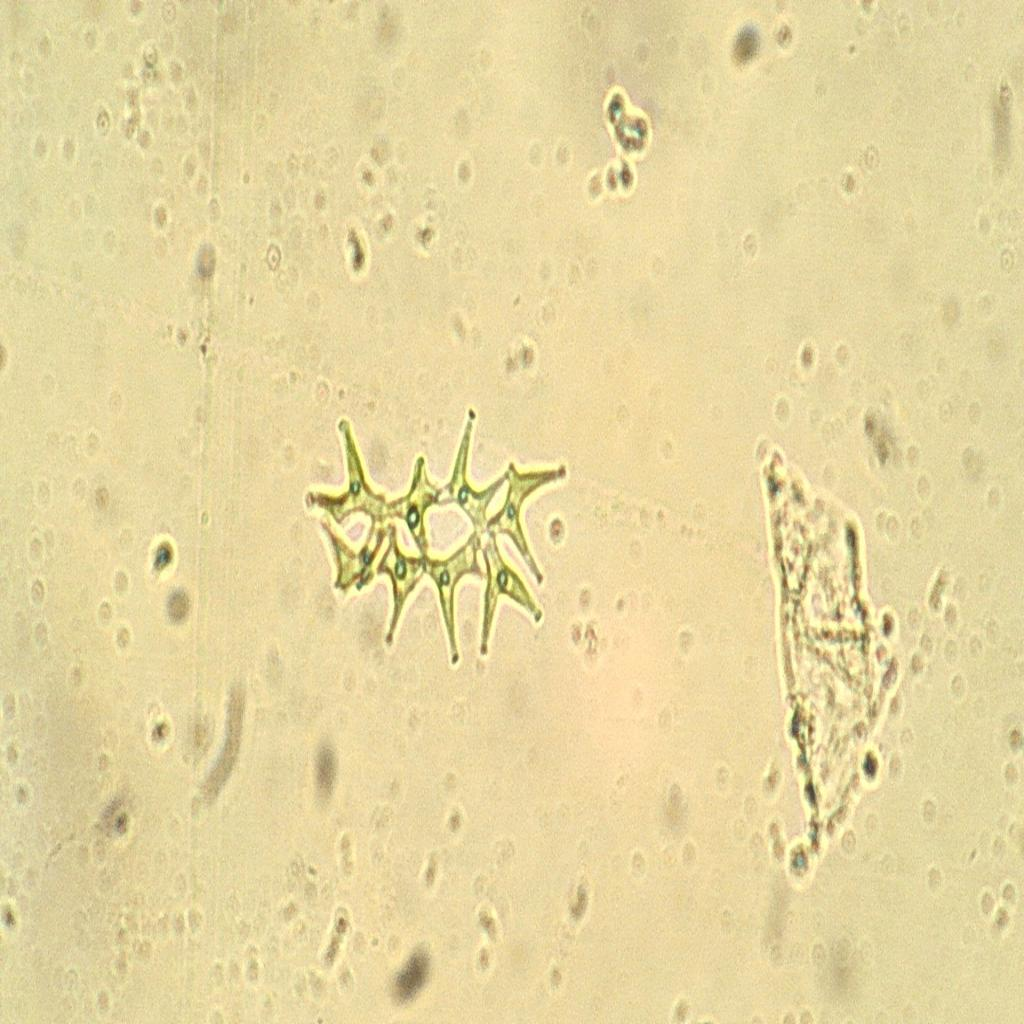Pediastrum_1TH: (283, 380, 573, 708)
